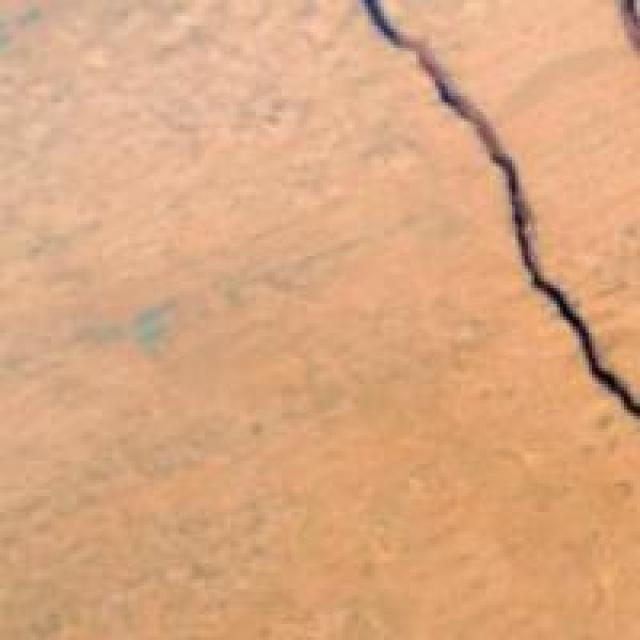crack: (362, 0, 636, 464)
